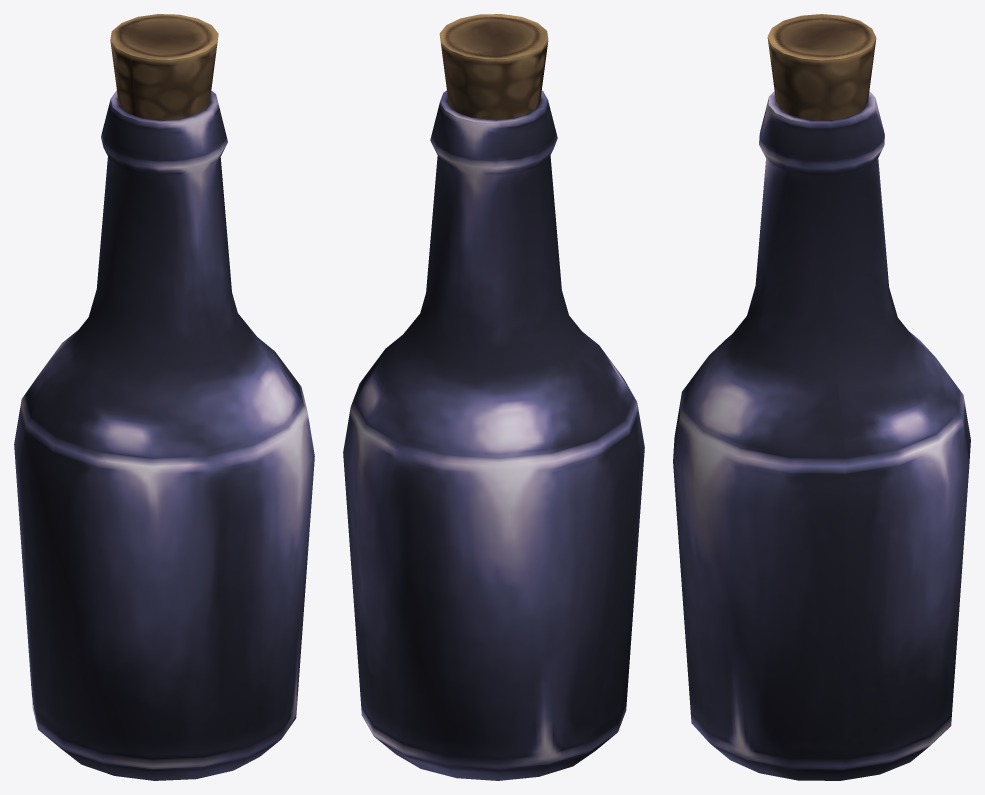
File: Prop_c.FBX
3 views of the same model, side by side, from view 1: azimuth 30°, elevation 25°; view 2: azimuth 150°, elevation 25°; view 3: azimuth 270°, elevation 25° (orthographic).
Visible parts, largest first — view 1: Prop_c; view 2: Prop_c; view 3: Prop_c.
Part boxes in pixels (x1,y1,x2,y2): Prop_c: [14, 14, 314, 780]; Prop_c: [343, 14, 644, 780]; Prop_c: [673, 14, 970, 780].
Size of the model in its own units: 12.07 by 31.64 by 12.09.
